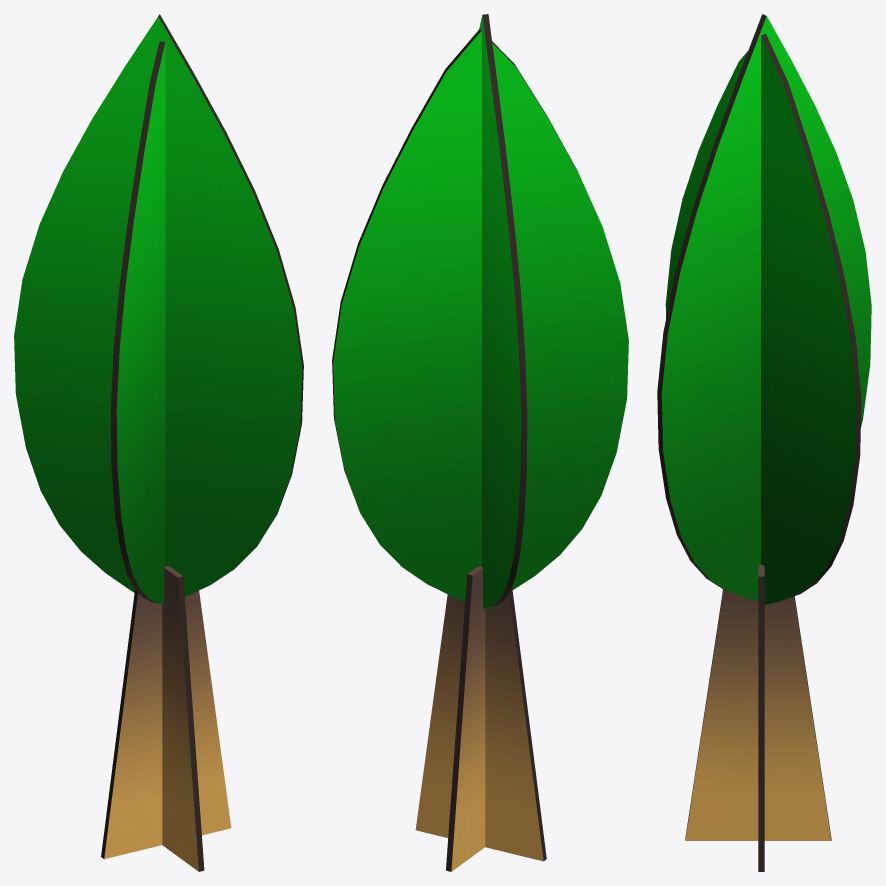
File: arbol01.FBX
3 renders of one model, left to right at view 1: azimuth 30°, elevation 25°; view 2: azimuth 150°, elevation 25°; view 3: azimuth 270°, elevation 25°, orthographic.
Visible parts, largest first — view 1: Line001, Line002, Line005, Line006; view 2: Line002, Line001, Line005, Line006; view 3: Line001, Line002, Line006, Line005.
Boxes of the visible parts, left/top/right/bottom form: Line001: left=14, top=14, right=303, bottom=596; Line002: left=110, top=41, right=165, bottom=604; Line005: left=101, top=590, right=231, bottom=859; Line006: left=162, top=566, right=204, bottom=871; Line002: left=332, top=29, right=628, bottom=601; Line001: left=479, top=14, right=527, bottom=608; Line005: left=415, top=587, right=546, bottom=861; Line006: left=446, top=566, right=485, bottom=871; Line001: left=657, top=14, right=871, bottom=600; Line002: left=665, top=34, right=861, bottom=604; Line006: left=685, top=589, right=831, bottom=840; Line005: left=758, top=564, right=764, bottom=871.
Bounding box in the file's own units: 9.2 × 36.12 × 8.52.
1 material, 1 textured.
